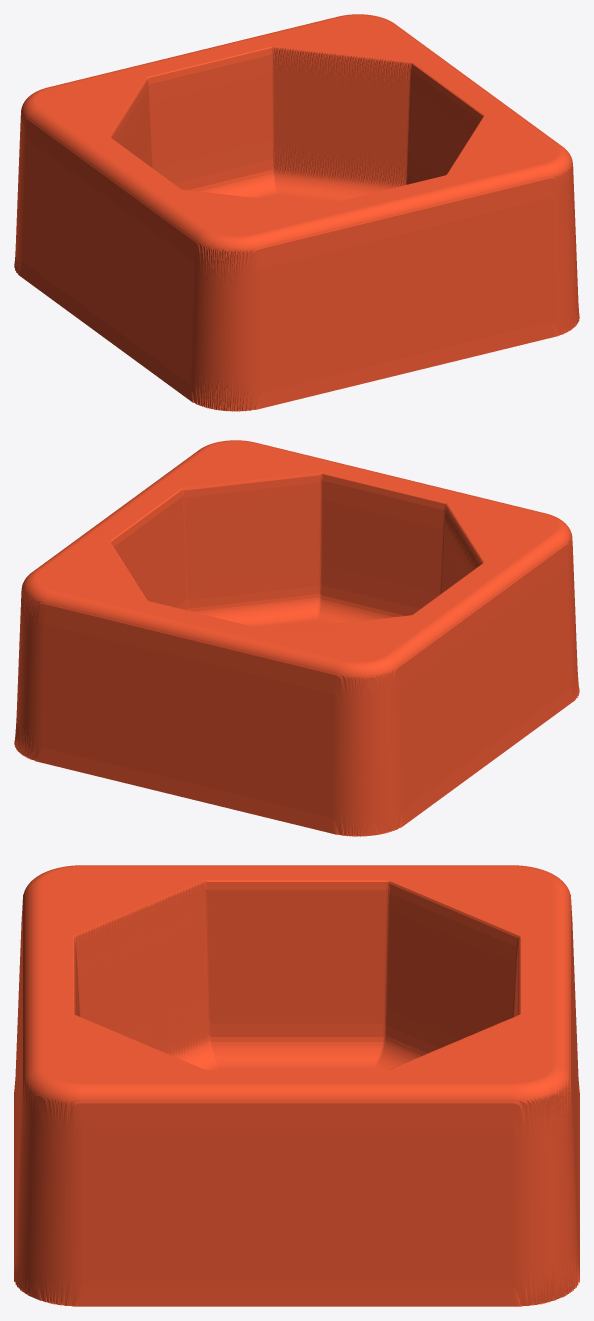
File: mold.glb
3 views of the same model, one above another, from view 1: azimuth 30°, elevation 25°; view 2: azimuth 150°, elevation 25°; view 3: azimuth 270°, elevation 25° (orthographic). The views are drawn at different scales.
Visible parts, largest first — view 1: geometry_0; view 2: geometry_0; view 3: geometry_0.
Part boxes in pixels (x1,y1,x2,y2): geometry_0: (14,14,579,411); geometry_0: (14,440,579,836); geometry_0: (14,865,579,1306).
Bounding box in the file's own units: 0.075 × 0.031 × 0.075.
